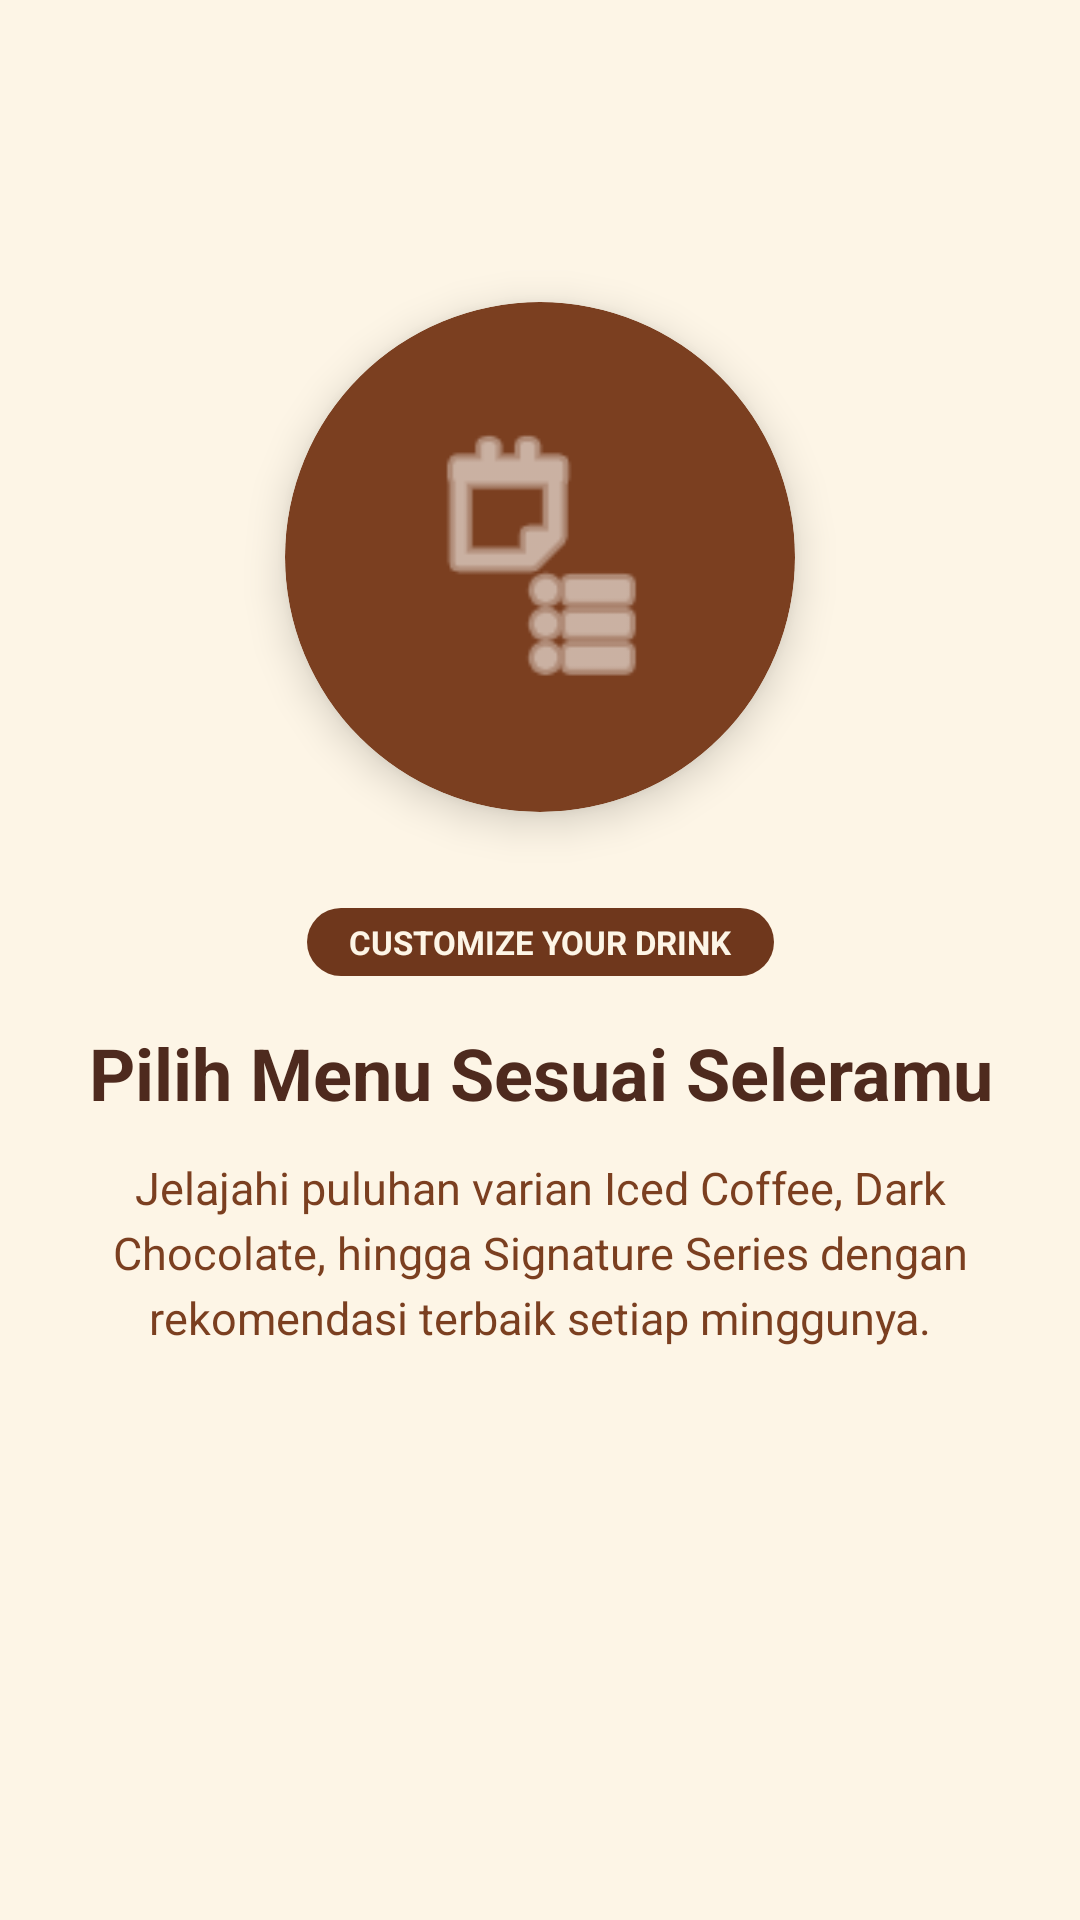

Where icons sit on this 1080px×1920px app screen, as (x1, y1, x2, y2):
Ikon Katalog Menu: (447, 435, 636, 676)
